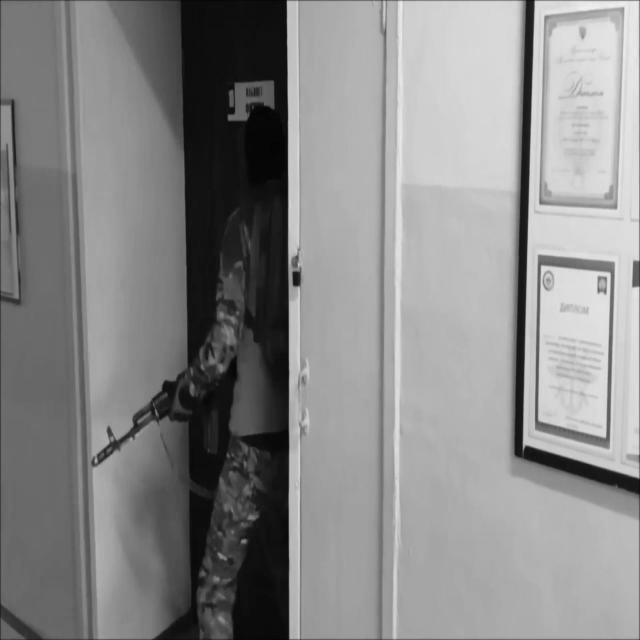gun: (90, 350, 228, 470)
person with a gun: (88, 101, 288, 640)
